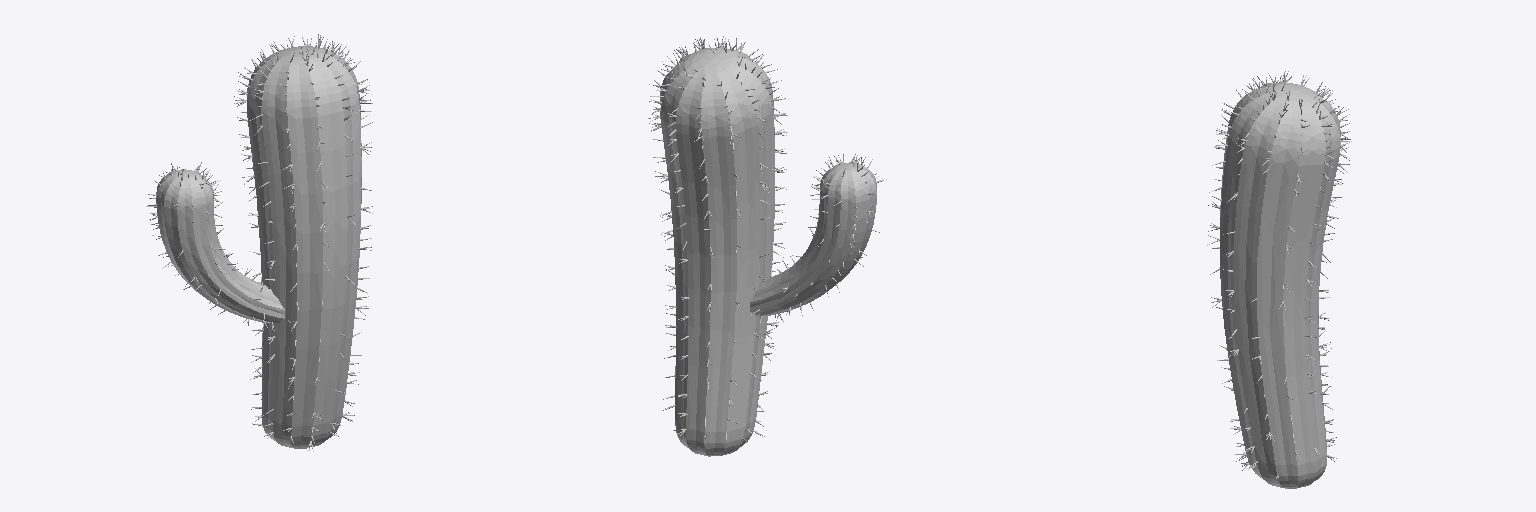
Rendered from CactusTest.obj.
3 views of the same model, side by side, from view 1: azimuth 30°, elevation 25°; view 2: azimuth 150°, elevation 25°; view 3: azimuth 270°, elevation 25° (orthographic).
Parts seen in each view (by area): view 1: Circle, Circle.003_Circle.004; view 2: Circle, Circle.003_Circle.004; view 3: Circle.
Boxes of the visible parts, box(x1,y1,x2,y2) form: Circle: box(247, 46, 361, 448); Circle.003_Circle.004: box(156, 169, 284, 322); Circle: box(660, 47, 774, 456); Circle.003_Circle.004: box(750, 162, 876, 316); Circle: box(1220, 82, 1340, 488).
Bounding box in the file's own units: 6.1 × 10.78 × 3.56.